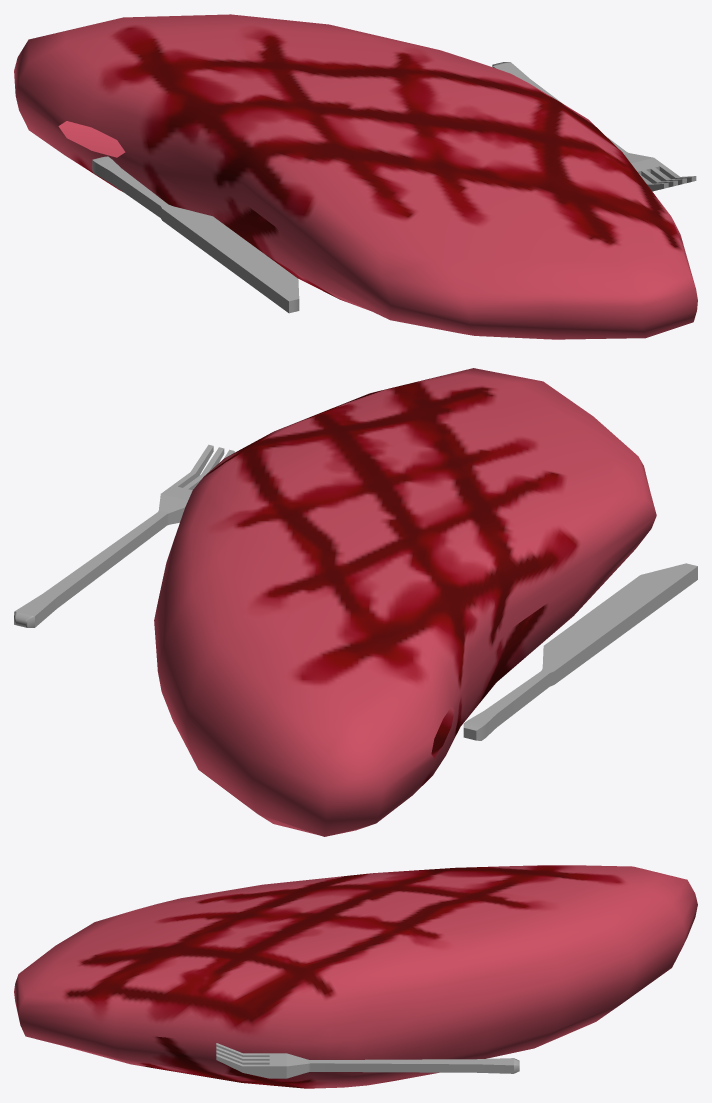
Rendered from Recipe_LastBreath.fbx.
3 views of the same model, one above another, from view 1: azimuth 30°, elevation 25°; view 2: azimuth 150°, elevation 25°; view 3: azimuth 270°, elevation 25° (orthographic). The views are drawn at different scales.
Visible parts, largest first — view 1: Lung2, pCube4, pCube3; view 2: Lung2, pCube4, pCube3; view 3: Lung2, pCube3.
Boxes of the visible parts, box(x1,y1,x2,y2) form: Lung2: box(14, 14, 697, 339); pCube4: box(92, 156, 299, 313); pCube3: box(492, 62, 696, 191); Lung2: box(154, 368, 656, 836); pCube4: box(463, 563, 697, 740); pCube3: box(14, 444, 234, 627); Lung2: box(14, 865, 697, 1088); pCube3: box(216, 1043, 519, 1078).
Bounding box in the file's own units: 4.68 × 1.88 × 7.87.
